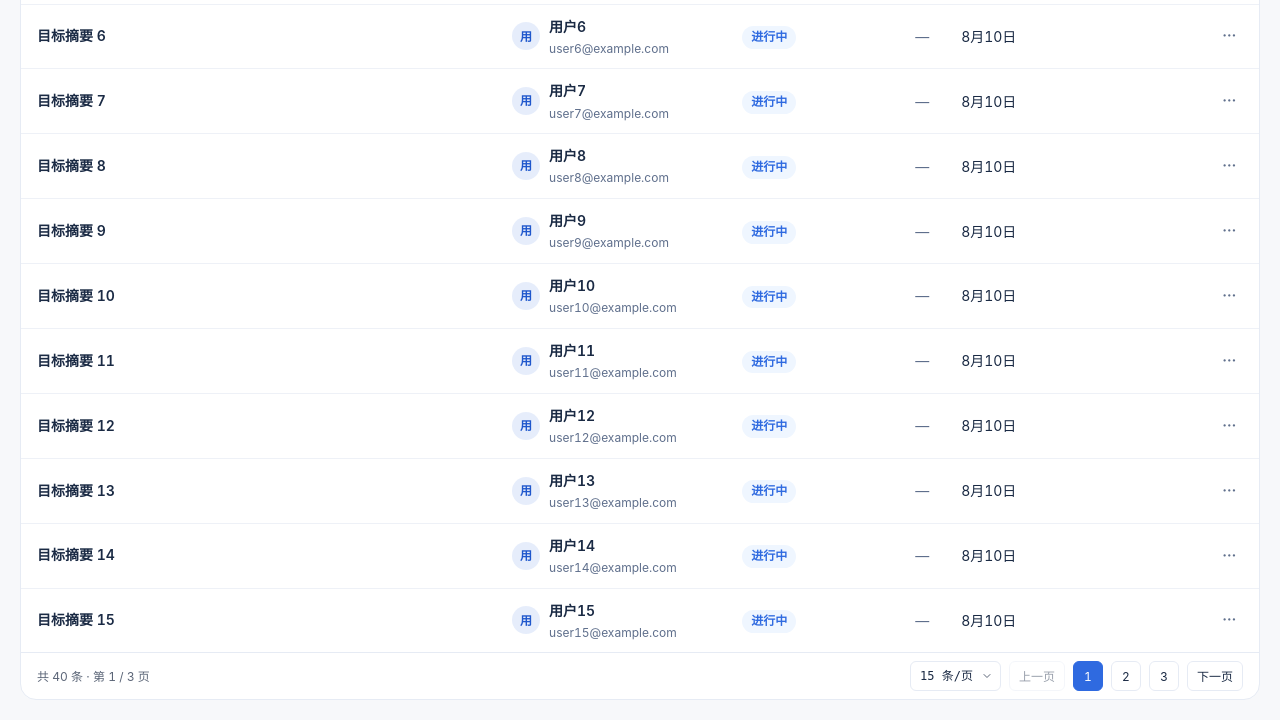
Test: GoalConversations 客户端分页（mk-pagination） › 翻页：第 2 页整页切片（第 16-30 行）
(page scrolled)
Click the button "下一页". click: [1215, 676]
box: [1187,661,1243,691]
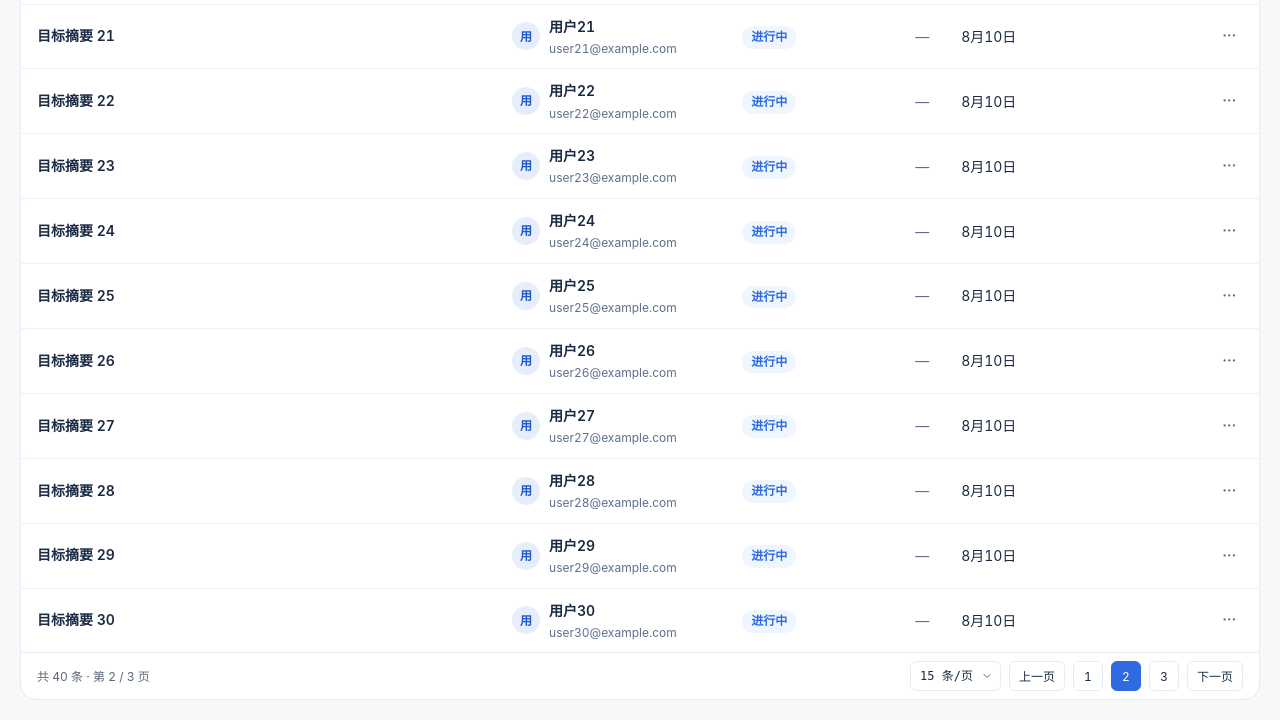
Result: the text "第 2 / 3 页" is shown at [37,668,150,684]
Result: the text "user15@example.com" is gone
